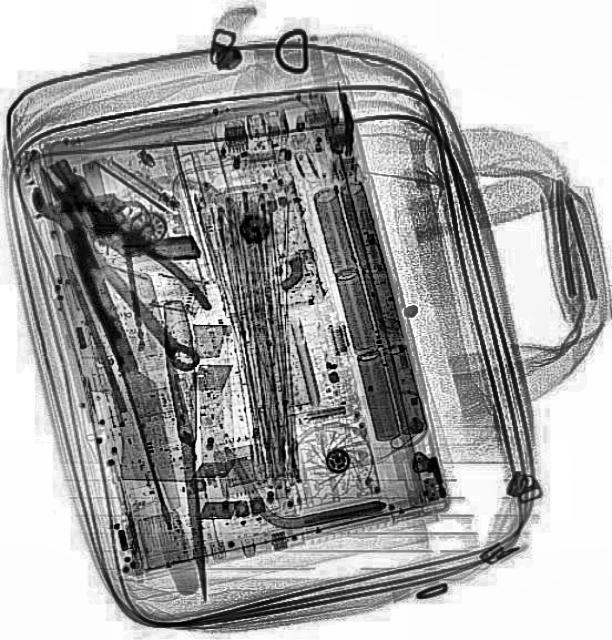Gun: (48, 123, 202, 295)
Knife: (63, 220, 198, 510), (159, 298, 217, 604)
Wrench: (21, 170, 210, 378)
